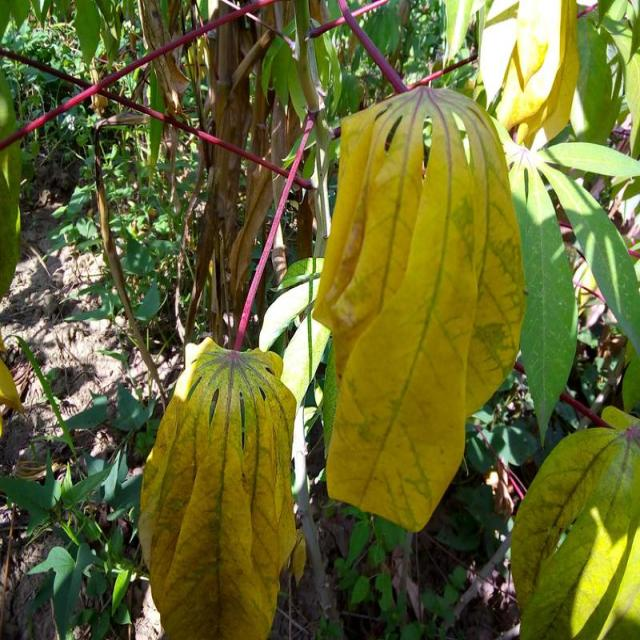cassava leaf: (311, 83, 528, 532), (138, 335, 304, 638), (510, 404, 640, 638)
